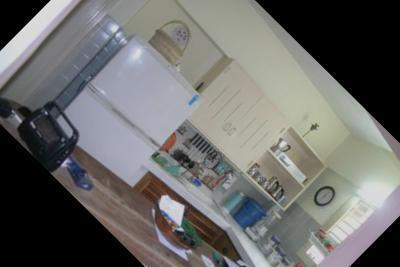Electrodomestico: (60, 35, 206, 181)
